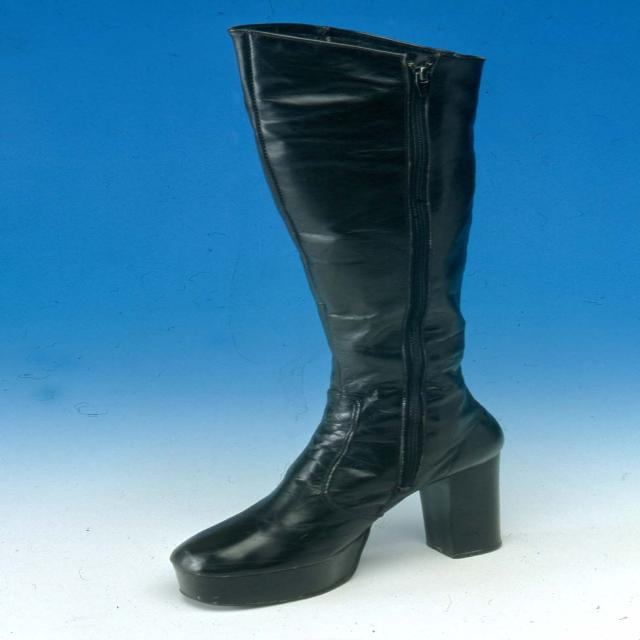boot: (134, 10, 529, 609)
